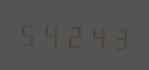five: (18, 18, 39, 48)
four: (40, 18, 61, 49), (84, 20, 105, 51)
three: (106, 21, 127, 51)
two: (62, 19, 83, 50)
